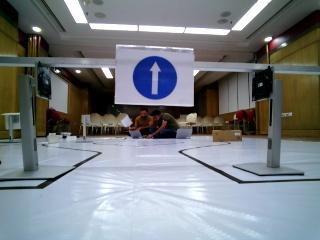straight: (110, 45, 195, 109)
